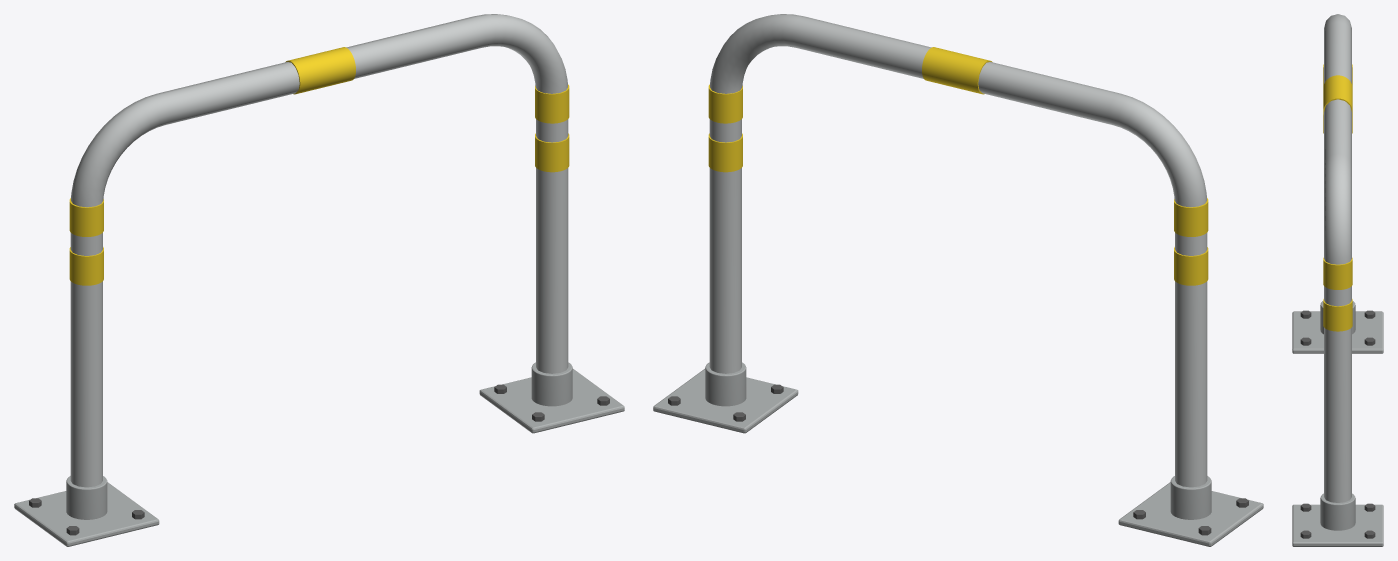
The model's file is city-u-shaped-steel-barrier.glb.
3 views of the same model, side by side, from view 1: azimuth 30°, elevation 25°; view 2: azimuth 150°, elevation 25°; view 3: azimuth 270°, elevation 25° (orthographic). The views are drawn at different scales.
Visible parts, largest first — view 1: Assembly | Hot-dip galvanized pipe, Assembly | Galvanized base plate, Assembly | Yellow reflective band; view 2: Assembly | Hot-dip galvanized pipe, Assembly | Galvanized base plate, Assembly | Yellow reflective band; view 3: Assembly | Hot-dip galvanized pipe, Assembly | Galvanized base plate, Assembly | Yellow reflective band, Assembly | Anchor bolt steel.
Boxes of the visible parts, x1,y1,x2,y2 form: Assembly | Hot-dip galvanized pipe: (70, 14, 568, 487); Assembly | Galvanized base plate: (14, 362, 624, 546); Assembly | Yellow reflective band: (69, 47, 569, 285); Assembly | Hot-dip galvanized pipe: (709, 14, 1207, 487); Assembly | Galvanized base plate: (653, 362, 1263, 546); Assembly | Yellow reflective band: (708, 47, 1208, 285); Assembly | Hot-dip galvanized pipe: (1324, 14, 1351, 502); Assembly | Galvanized base plate: (1292, 301, 1383, 546); Assembly | Yellow reflective band: (1323, 64, 1352, 331); Assembly | Anchor bolt steel: (1300, 310, 1375, 538).
Size of the model in its own units: 1.2 by 0.8323 by 0.2.
